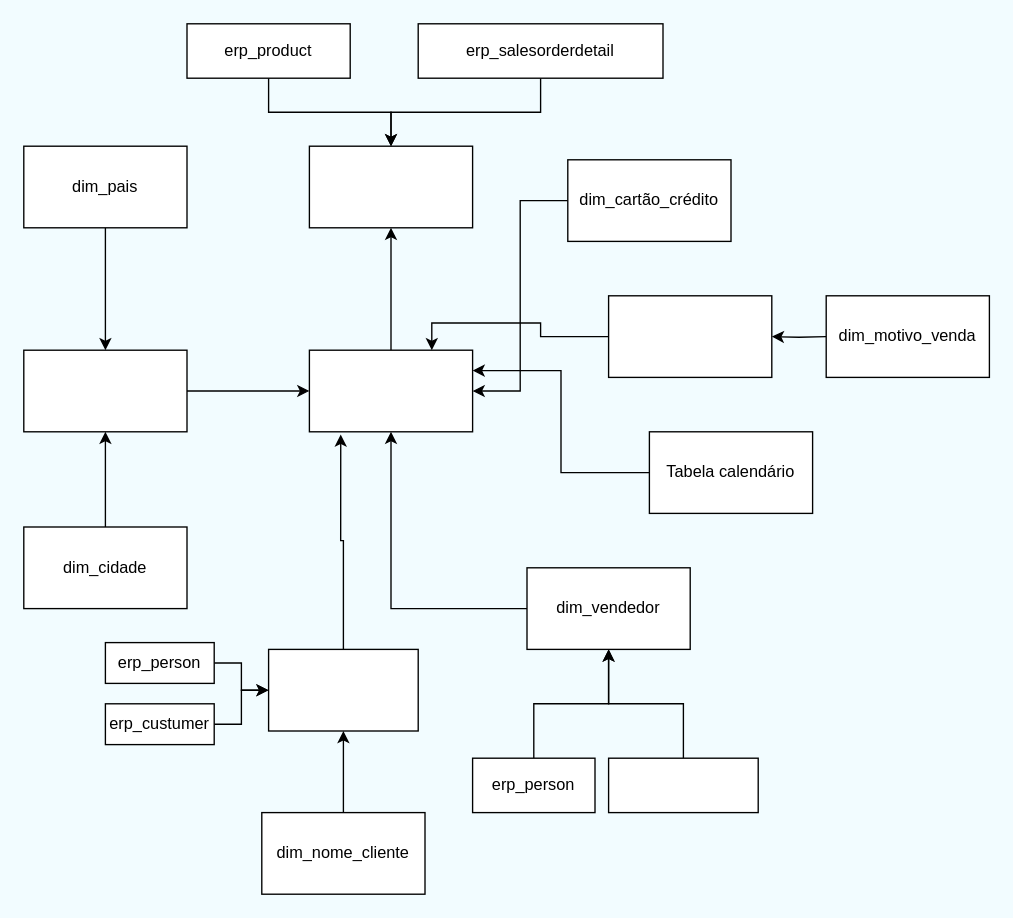
This 1013x918 diagram has some shape labels left out. The centre of each missing label's shape, as x and y in pixels:
dim_cliente: the point at 342,689
dim_estado: the point at 104,390
dim_produto: the point at 390,186
dim_sales_reason: the point at 689,335
erp_sales_person: the point at 682,785
fact_data_venda: the point at 390,390
